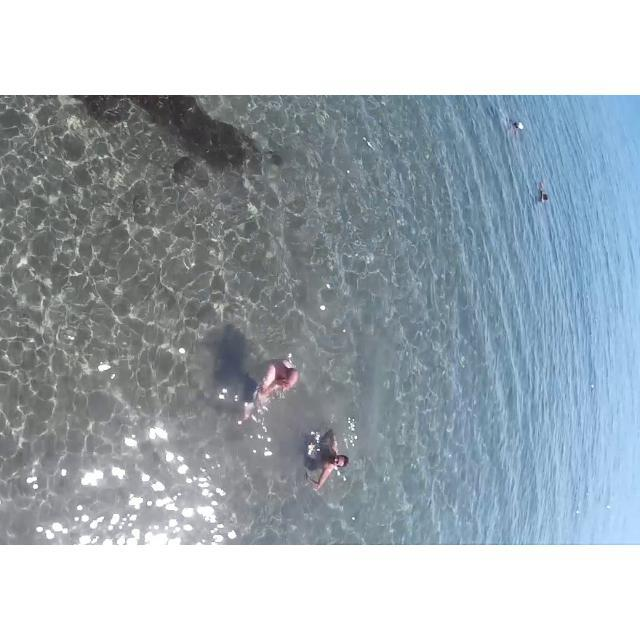human: (244, 339, 297, 427), (309, 421, 353, 504)
